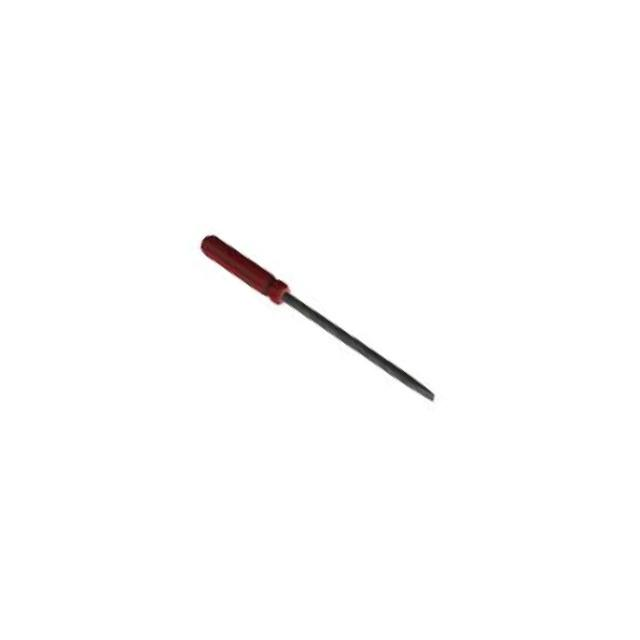screwdriver: (175, 185, 458, 466)
